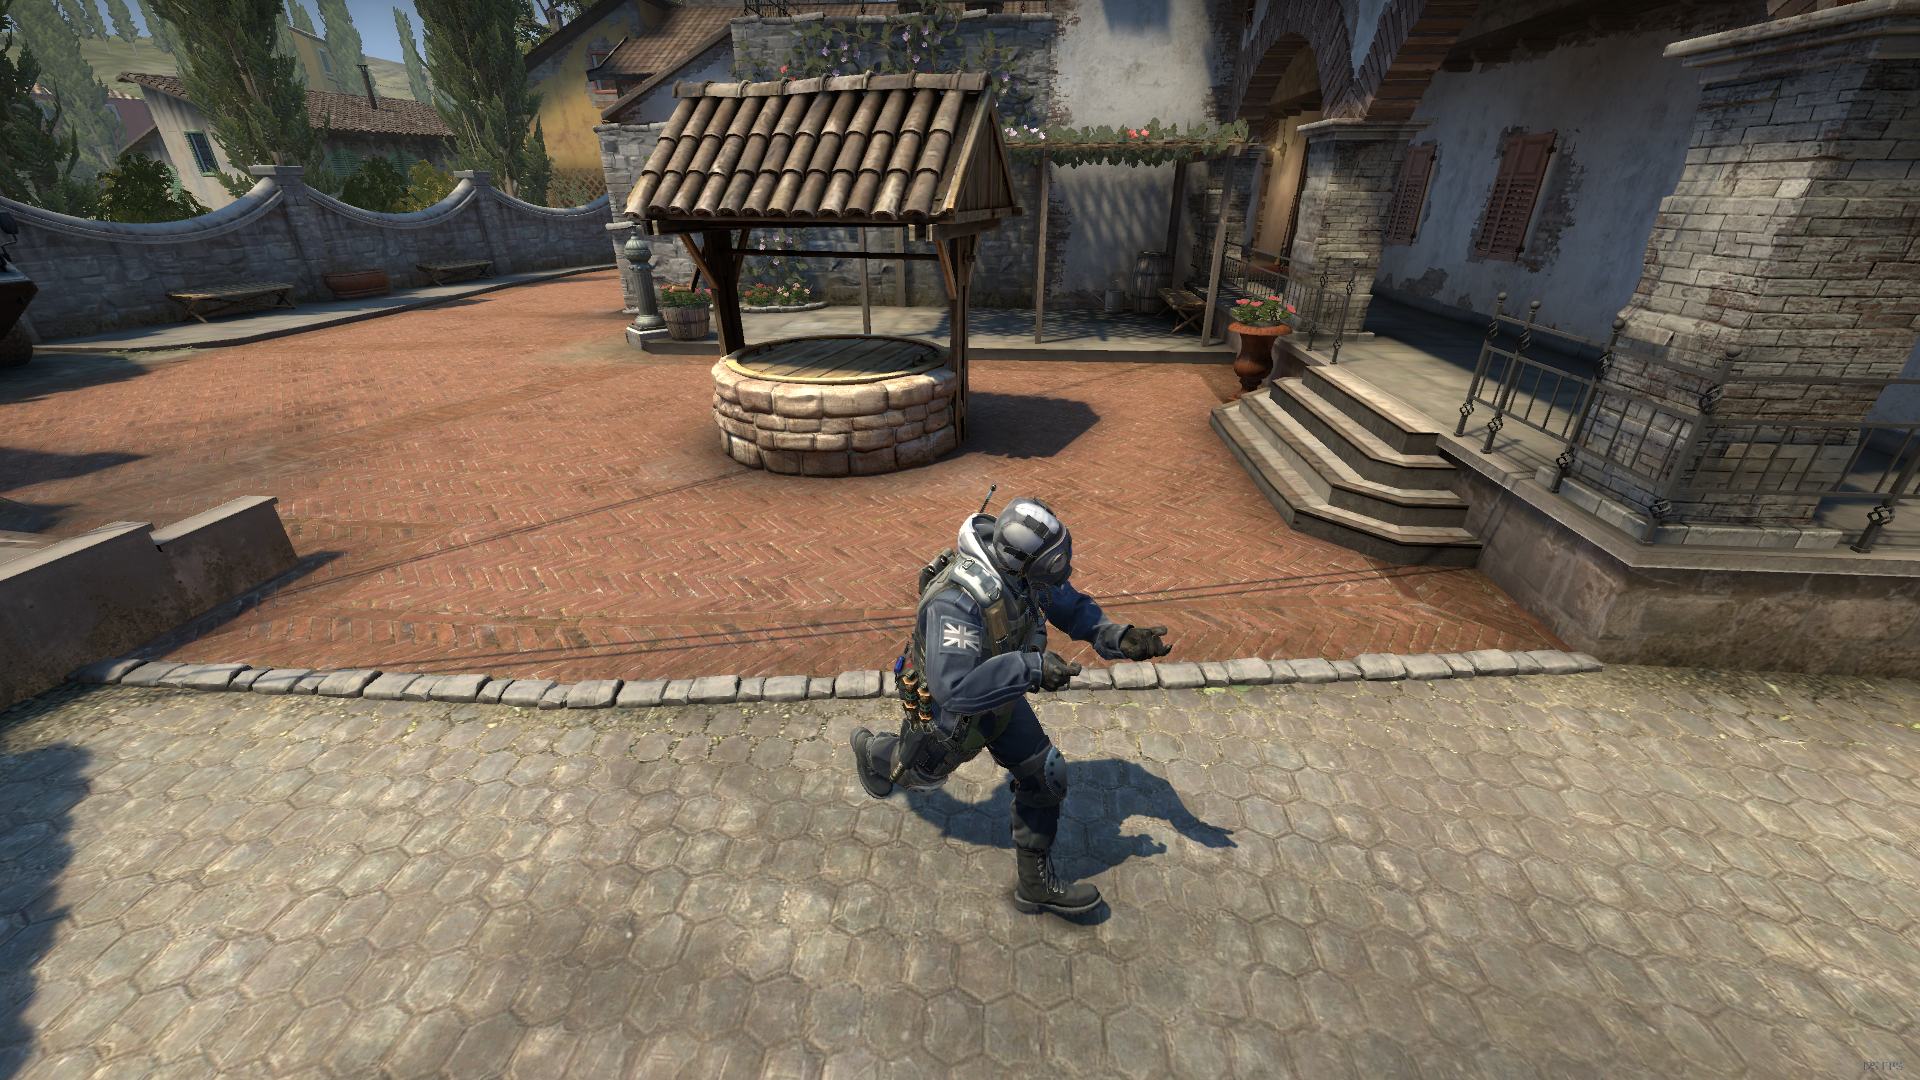ct: (852, 496, 1175, 914)
